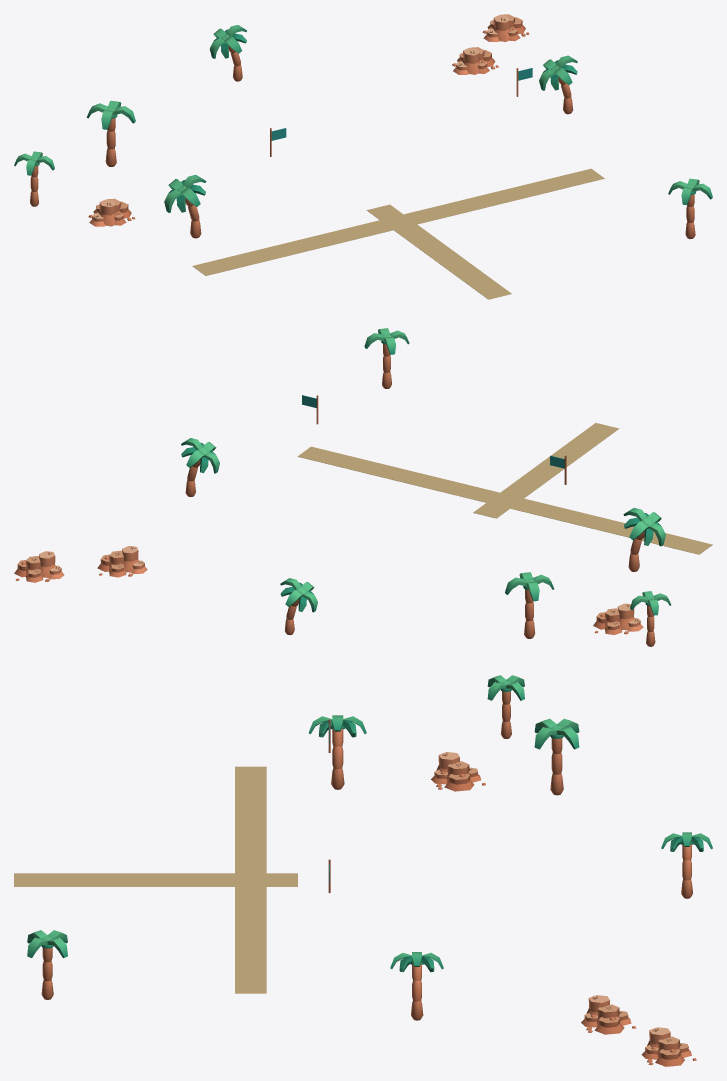
The model's file is harbor_player_scenery.glb.
3 views of the same model, one above another, from view 1: azimuth 30°, elevation 25°; view 2: azimuth 150°, elevation 25°; view 3: azimuth 270°, elevation 25° (orthographic). The views are drawn at different scales.
Parts seen in each view (by area): view 1: Packed-sand lane.015, Packed-sand lane.016, Packed-sand lane.017, palm-detailed-bend.014, palm-detailed-bend.012, palm-straight.013, palm-detailed-bend.013, rocks-sand-a.013, rocks-sand-a.015, rocks-sand-a.014, palm-straight.014, palm-straight.012; view 2: Packed-sand lane.015, Packed-sand lane.017, Packed-sand lane.016, palm-detailed-bend.014, palm-detailed-bend.012, palm-straight.013, palm-detailed-bend.013, rocks-sand-a.014, rocks-sand-a.015, rocks-sand-a.013, palm-straight.014, palm-straight.012; view 3: Packed-sand lane.015, Packed-sand lane.016, Packed-sand lane.017, palm-straight.013, palm-detailed-bend.014, palm-straight.014, rocks-sand-a.013, rocks-sand-a.014, rocks-sand-a.015, palm-detailed-bend.012, palm-detailed-bend.013, palm-straight.012.
Part boxes in pixels (<box>): Packed-sand lane.015: <box>366,204,511,299</box>; Packed-sand lane.016: <box>192,220,393,275</box>; Packed-sand lane.017: <box>404,168,604,224</box>; palm-detailed-bend.014: <box>164,175,206,238</box>; palm-detailed-bend.012: <box>539,55,577,114</box>; palm-straight.013: <box>86,100,135,166</box>; palm-detailed-bend.013: <box>209,25,246,81</box>; rocks-sand-a.013: <box>88,198,135,226</box>; rocks-sand-a.015: <box>482,14,529,41</box>; rocks-sand-a.014: <box>452,47,498,74</box>; palm-straight.014: <box>668,178,712,238</box>; palm-straight.012: <box>14,151,54,206</box>; Packed-sand lane.015: <box>473,423,619,518</box>; Packed-sand lane.017: <box>297,446,499,502</box>; Packed-sand lane.016: <box>510,498,712,554</box>; palm-detailed-bend.014: <box>623,508,665,571</box>; palm-detailed-bend.012: <box>181,438,219,496</box>; palm-straight.013: <box>505,572,554,638</box>; palm-detailed-bend.013: <box>280,578,317,635</box>; rocks-sand-a.014: <box>97,546,147,577</box>; rocks-sand-a.015: <box>14,551,64,582</box>; rocks-sand-a.013: <box>593,603,643,634</box>; palm-straight.014: <box>364,328,409,388</box>; palm-straight.012: <box>630,591,670,646</box>; Packed-sand lane.015: <box>14,873,297,886</box>; Packed-sand lane.016: <box>235,766,266,873</box>; Packed-sand lane.017: <box>235,887,266,993</box>; palm-straight.013: <box>534,718,579,795</box>; palm-detailed-bend.014: <box>308,715,366,789</box>; palm-straight.014: <box>27,930,67,999</box>; rocks-sand-a.013: <box>431,752,485,791</box>; rocks-sand-a.014: <box>581,995,636,1034</box>; rocks-sand-a.015: <box>641,1027,696,1066</box>; palm-detailed-bend.012: <box>390,952,443,1020</box>; palm-detailed-bend.013: <box>661,832,712,898</box>; palm-straight.012: <box>487,675,524,738</box>.
Size of the model in its own units: 48.87 by 8.39 by 44.28.
6 materials, 3 textured.
